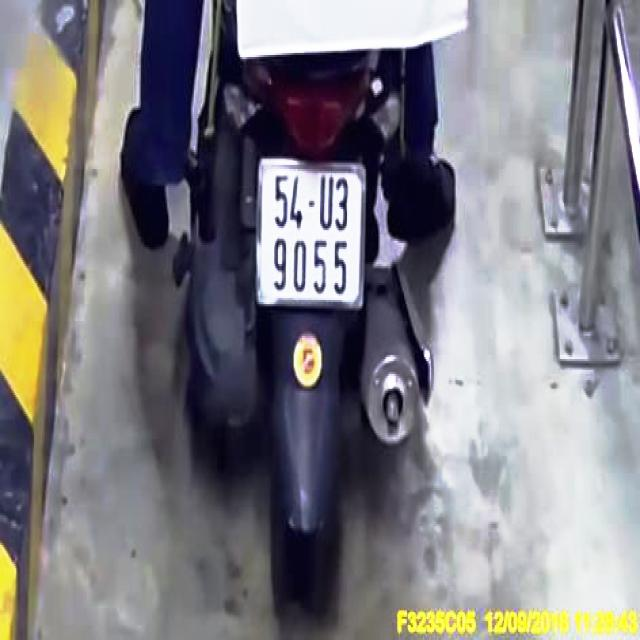license_plate: (261, 163, 367, 307)
